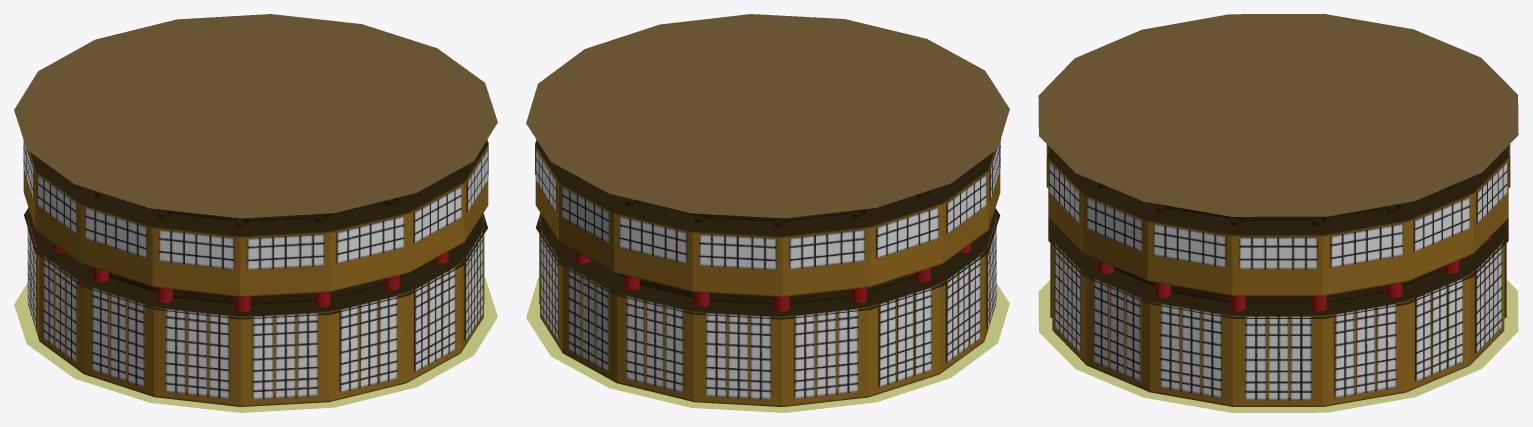
File: dojo.fbx
3 renders of one model, left to right at view 1: azimuth 30°, elevation 25°; view 2: azimuth 150°, elevation 25°; view 3: azimuth 270°, elevation 25°, orthographic.
Visible parts, largest first — view 1: ceiling, wall15, wall14, wall, wall13, wall1, wall12, floor, wall2, wall11; view 2: ceiling, wall9, wall10, wall8, wall11, wall7, wall12, floor, wall6, wall13; view 3: ceiling, wall4, wall5, wall3, wall6, wall2, wall7, wall1, floor, wall8, wall.
Part boxes in pixels (bbox=[...]): ceiling: bbox=[14, 14, 497, 218]; wall15: bbox=[240, 214, 330, 406]; wall14: bbox=[152, 210, 242, 406]; wall: bbox=[319, 201, 408, 401]; wall13: bbox=[80, 195, 166, 396]; wall1: bbox=[387, 178, 464, 382]; wall12: bbox=[35, 167, 104, 373]; floor: bbox=[14, 277, 497, 412]; wall2: bbox=[447, 145, 488, 352]; wall11: bbox=[23, 139, 52, 340]; ceiling: bbox=[526, 14, 1009, 218]; wall9: bbox=[692, 214, 782, 406]; wall10: bbox=[780, 210, 870, 406]; wall8: bbox=[614, 201, 702, 401]; wall11: bbox=[856, 195, 942, 397]; wall7: bbox=[559, 178, 635, 382]; wall12: bbox=[919, 168, 988, 373]; floor: bbox=[526, 277, 1009, 412]; wall6: bbox=[535, 144, 576, 352]; wall13: bbox=[971, 139, 1000, 340]; ceiling: bbox=[1038, 14, 1518, 216]; wall4: bbox=[1232, 216, 1323, 406]; wall5: bbox=[1317, 206, 1408, 406]; wall3: bbox=[1147, 206, 1238, 406]; wall6: bbox=[1390, 188, 1473, 392]; wall2: bbox=[1083, 188, 1165, 392]; wall7: bbox=[1453, 156, 1508, 365]; wall1: bbox=[1048, 156, 1103, 364]; floor: bbox=[1038, 280, 1518, 412]; wall8: bbox=[1490, 144, 1510, 318]; wall: bbox=[1046, 144, 1066, 317].
Bounding box in the file's own units: 32.71 × 14.74 × 32.71.
